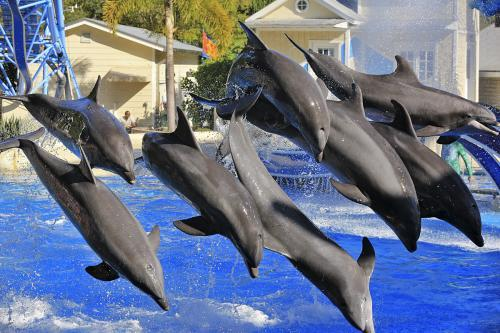fish: (217, 111, 379, 333), (3, 127, 174, 315), (285, 31, 497, 138), (139, 105, 266, 279), (311, 81, 423, 253), (366, 97, 487, 246), (217, 18, 332, 162), (7, 75, 143, 186)
